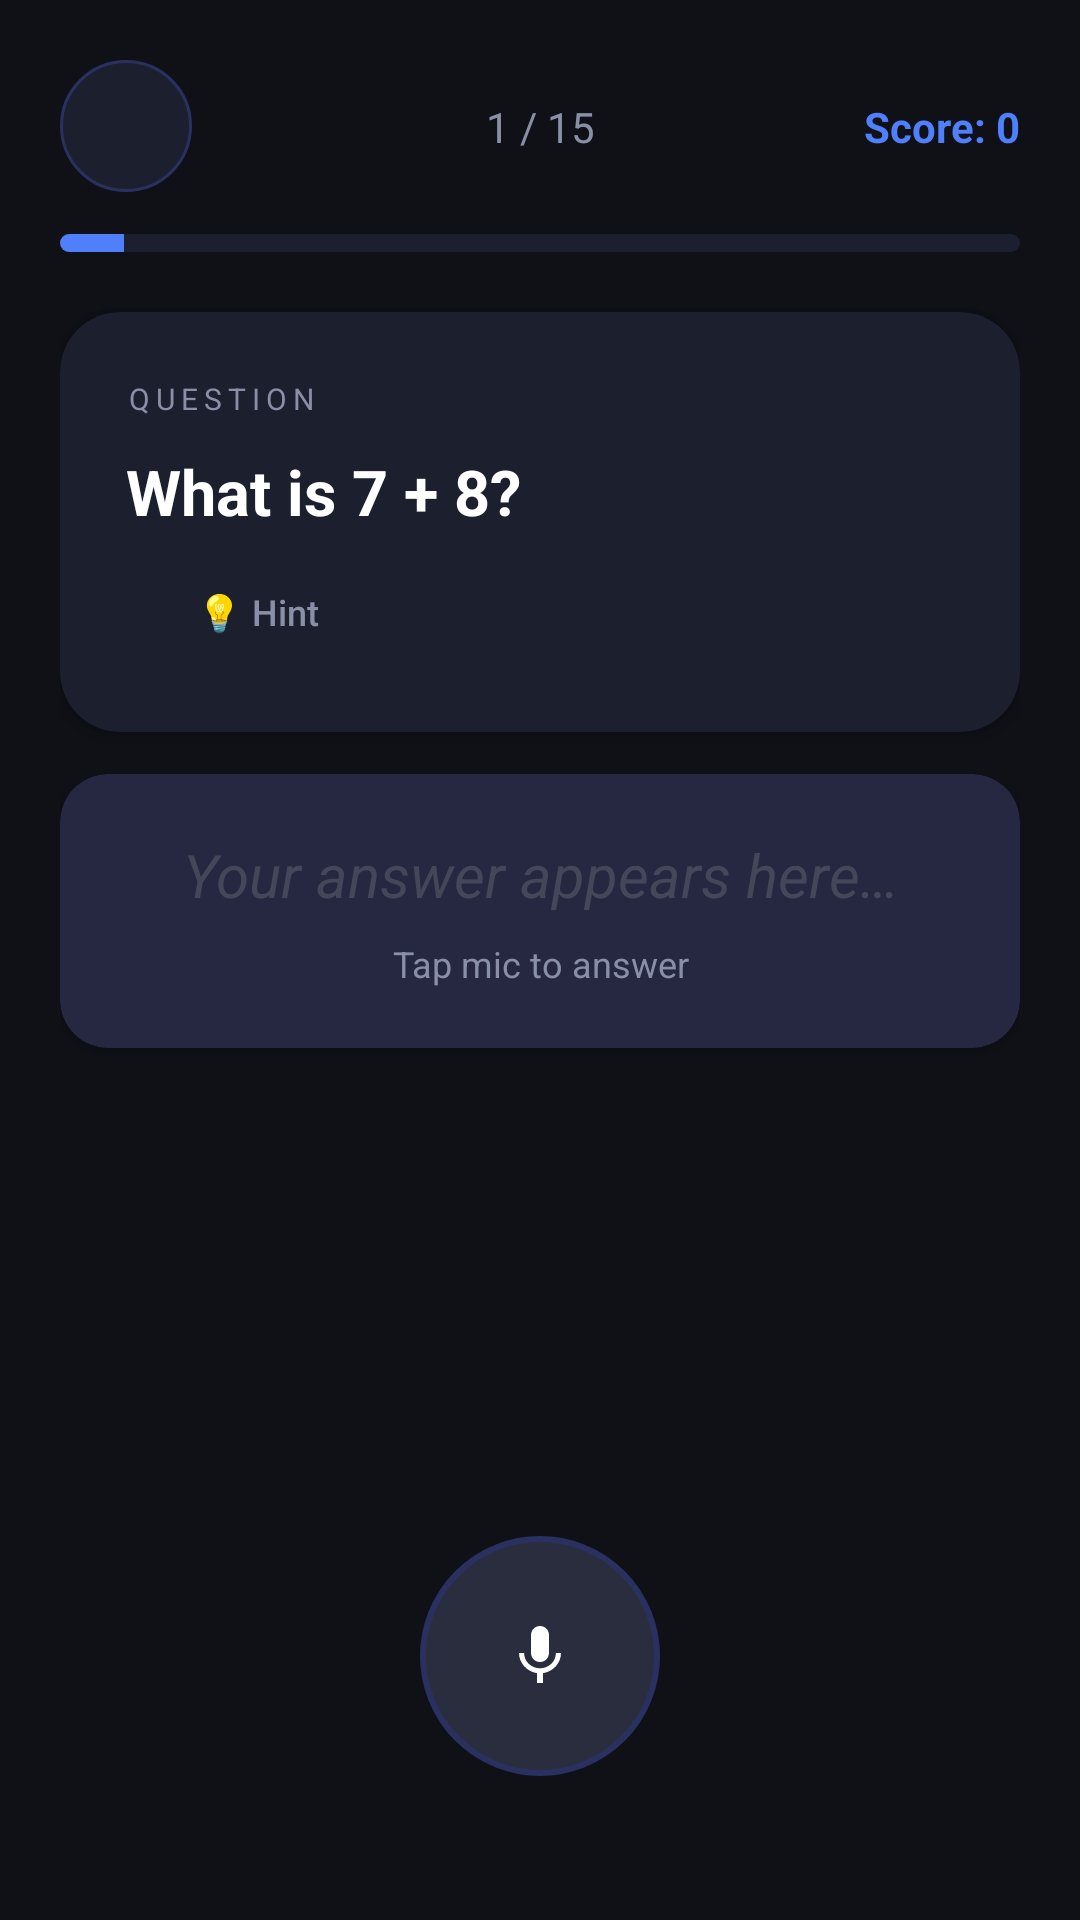

Screen size 1080x1920. Icon name, then its center in pixels as point (x, y):
Speak your answer: point (540, 1656)
